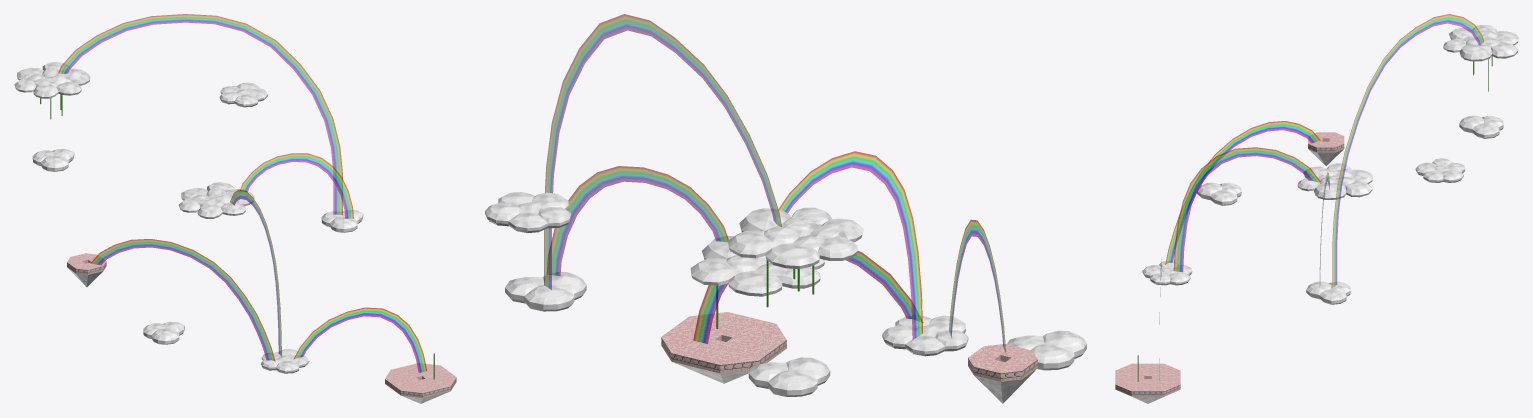
The model's file is rainbow_mario_all.obj.
The picture shows the model from 3 angles, left to right: view 1: azimuth 30°, elevation 25°; view 2: azimuth 150°, elevation 25°; view 3: azimuth 270°, elevation 25°; orthographic projection. The views are drawn at different scales.
Parts seen in each view (by area): view 1: r0; view 2: r0; view 3: r0.
Boxes of the visible parts, x1,y1,x2,y2 form: r0: (14, 14, 456, 403); r0: (485, 14, 1086, 403); r0: (1115, 14, 1518, 403).
Size of the model in its own units: 9.52 by 9.86 by 11.08.
